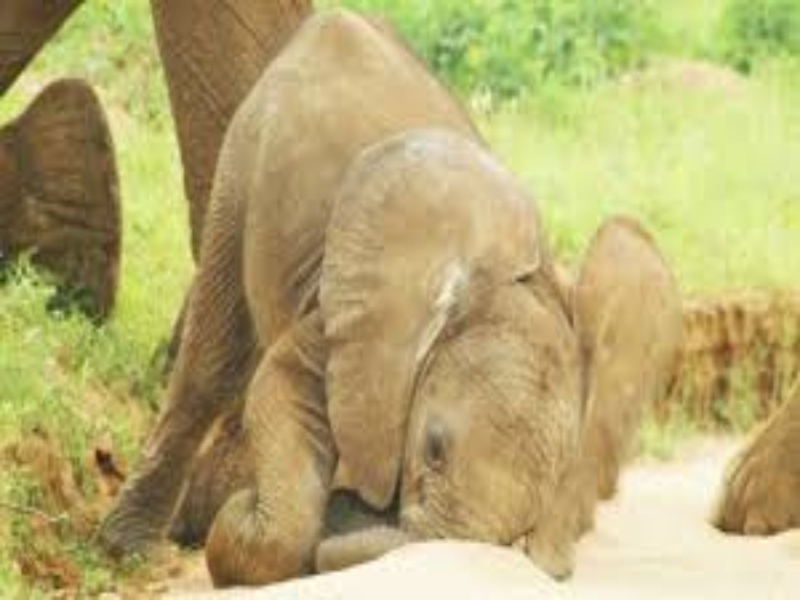elephant: (126, 1, 655, 552)
